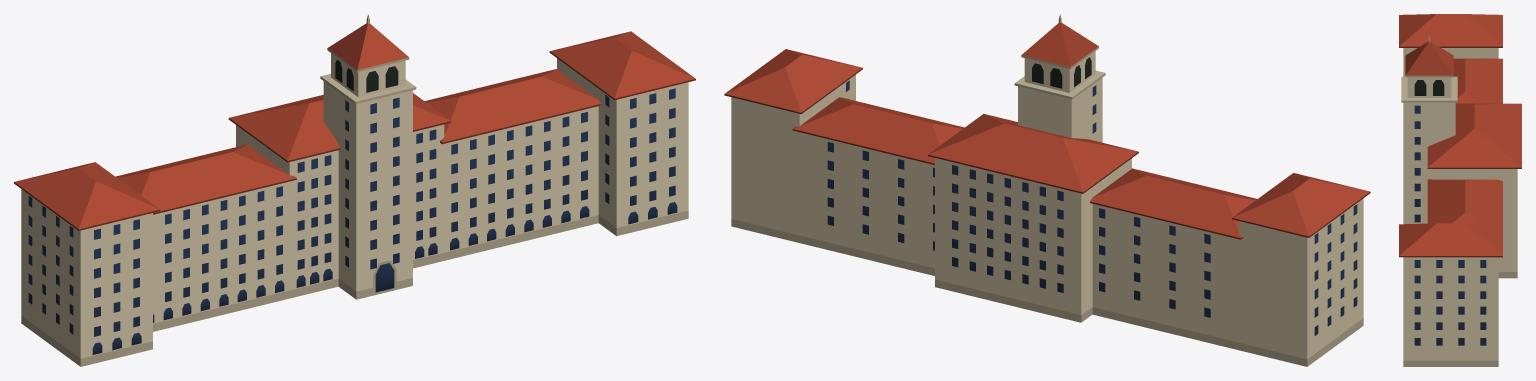
File: army-navy.glb
The picture shows the model from 3 angles, left to right: view 1: azimuth 30°, elevation 25°; view 2: azimuth 150°, elevation 25°; view 3: azimuth 270°, elevation 25°; orthographic projection. The views are drawn at different scales.
Visible parts, largest first — view 1: ArmyNavyHospital; view 2: ArmyNavyHospital; view 3: ArmyNavyHospital.
Boxes of the visible parts, x1=… form: ArmyNavyHospital: x1=14, y1=14, x2=695, y2=366; ArmyNavyHospital: x1=724, y1=14, x2=1370, y2=366; ArmyNavyHospital: x1=1399, y1=14, x2=1521, y2=366.
Bounding box in the file's own units: 120 × 49.5 × 25.8.
